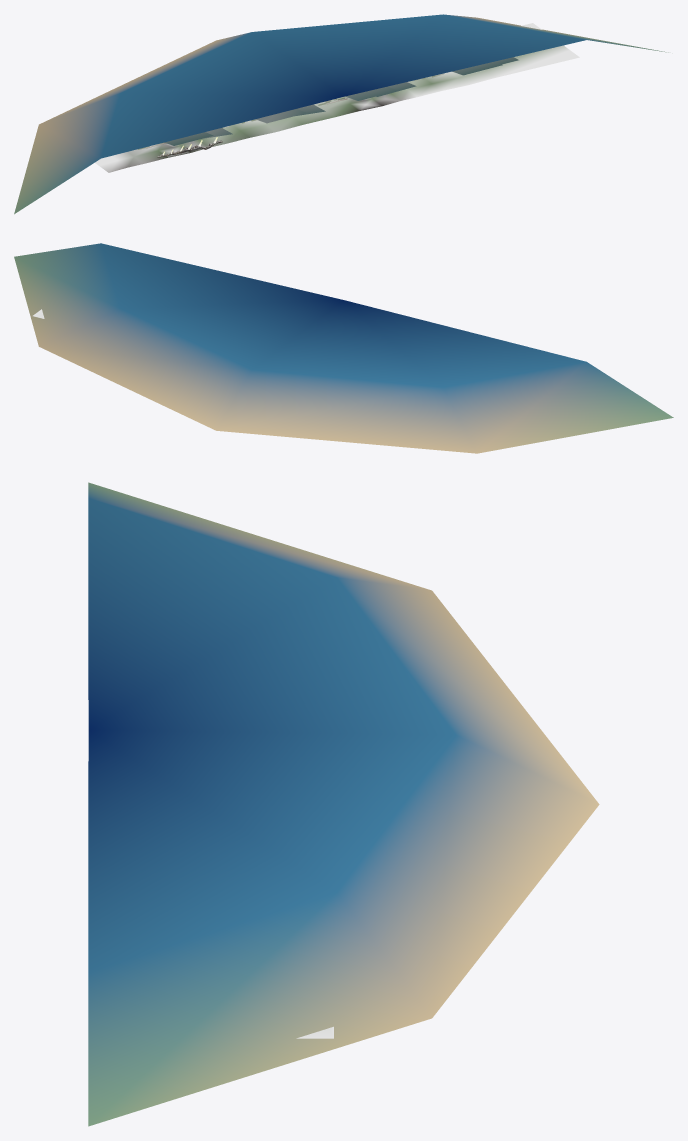
The model's file is Forest_13.fbx.
3 renders of one model, top to bottom at view 1: azimuth 30°, elevation 25°; view 2: azimuth 150°, elevation 25°; view 3: azimuth 270°, elevation 25°, orthographic. The views are drawn at different scales.
Parts seen in each view (by area): view 1: Light_01, Bg_01_A02, Cloud_01; view 2: Light_01; view 3: Light_01.
Part boxes in pixels (<box>): Light_01: <box>14,14,668,214</box>; Bg_01_A02: <box>95,23,579,172</box>; Cloud_01: <box>164,57,518,145</box>; Light_01: <box>14,243,673,453</box>; Light_01: <box>88,482,599,1126</box>.
Size of the model in its own units: 8566 by 462 by 2873.
